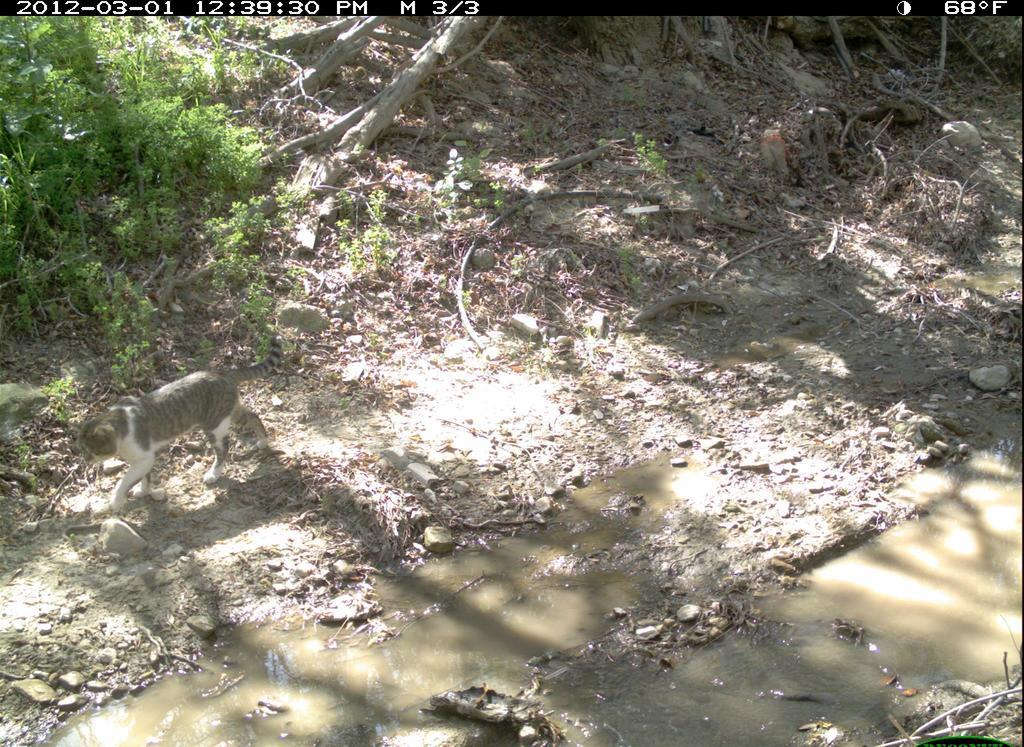cat: (59, 328, 296, 528)
